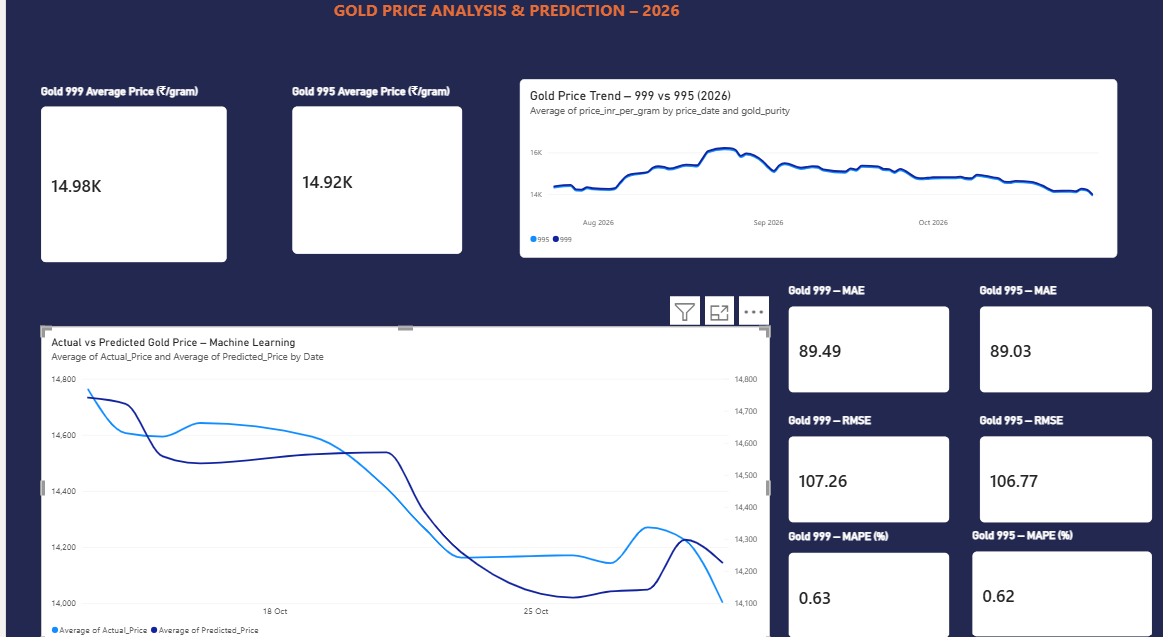

What the dashboard file says about the page in this screenshot:
{"tool":"powerbi","page":{"name":"Page 1","canvas":[1920,1080],"ordinal":0},"visuals":[{"type":"cardVisual","title":"Gold 995 Average Price (₹/gram)","fields":{"Data":["actual_vs_predicted.Gold 995 Average Price"]},"box":[471.4,140,280,280],"z":0},{"type":"cardVisual","title":"Gold 999 Average Price (₹/gram)","fields":{"Data":["actual_vs_predicted.Gold 999 Average Price"]},"box":[57.6,140,306.7,294.3],"z":1},{"type":"lineChart","title":"Gold Price Trend – 999 vs 995 (2026)","fields":{"Category":["gold_daily_analysis.price_date"],"Series":["gold_daily_analysis.gold_purity"],"Y":["Avg(gold_daily_analysis.price_inr_per_gram)"]},"box":[846,131.7,983.9,294.3],"z":2},{"type":"lineChart","title":"Actual vs Predicted Gold Price – Machine Learning","fields":{"Category":["actual_vs_predicted.Date"],"Y":["Avg(actual_vs_predicted.Actual_Price)"],"Y2":["Avg(actual_vs_predicted.Predicted_Price)"]},"box":[57.6,539.3,1200,531],"z":3},{"type":"cardVisual","title":"Gold 999 – MAE","fields":{"Data":["Avg(model_evaluation_results.MAE)"]},"box":[1288.5,469.3,265.5,179.1],"z":4},{"type":"cardVisual","title":"Gold 999 – RMSE","fields":{"Data":["Avg(model_evaluation_results.RMSE)"]},"box":[1288.5,683.4,265.5,179.1],"z":5},{"type":"cardVisual","title":"Gold 999 – MAPE (%)","fields":{"Data":["Avg(model_evaluation_results.MAPE_Percent)"]},"box":[1288.5,874.8,265.5,179.1],"z":6},{"type":"cardVisual","title":"Gold 995 – MAE","fields":{"Data":["Avg(model_evaluation_results.MAE)"]},"box":[1603.4,469.3,284,179.1],"z":7},{"type":"cardVisual","title":"Gold 995 – RMSE","fields":{"Data":["Avg(model_evaluation_results.RMSE)"]},"box":[1603.4,683.4,284,179.1],"z":8},{"type":"cardVisual","title":"Gold 995 – MAPE (%)","fields":{"Data":["Avg(model_evaluation_results.MAPE_Percent)"]},"box":[1603.4,872.7,284,179.1],"z":9},{"type":"textbox","box":[57.6,0,1533.5,55.6],"z":10},{"type":"textbox","box":[1338,902,231,178],"z":11}]}

Visuals, with their boxes in screenshot pixels (x1, y1, x2, y2), scaled from the page's 1920x1080 canvas onto the 1163x637 screenshot:
"Gold 995 Average Price (₹/gram)" cardVisual: (286, 83, 455, 248)
"Gold 999 Average Price (₹/gram)" cardVisual: (35, 83, 221, 256)
"Gold Price Trend – 999 vs 995 (2026)" lineChart: (512, 78, 1108, 251)
"Actual vs Predicted Gold Price – Machine Learning" lineChart: (35, 318, 762, 631)
"Gold 999 – MAE" cardVisual: (780, 277, 941, 382)
"Gold 999 – RMSE" cardVisual: (780, 403, 941, 509)
"Gold 999 – MAPE (%)" cardVisual: (780, 516, 941, 622)
"Gold 995 – MAE" cardVisual: (971, 277, 1143, 382)
"Gold 995 – RMSE" cardVisual: (971, 403, 1143, 509)
"Gold 995 – MAPE (%)" cardVisual: (971, 515, 1143, 620)
textbox: (35, 0, 964, 33)
textbox: (810, 532, 950, 636)
